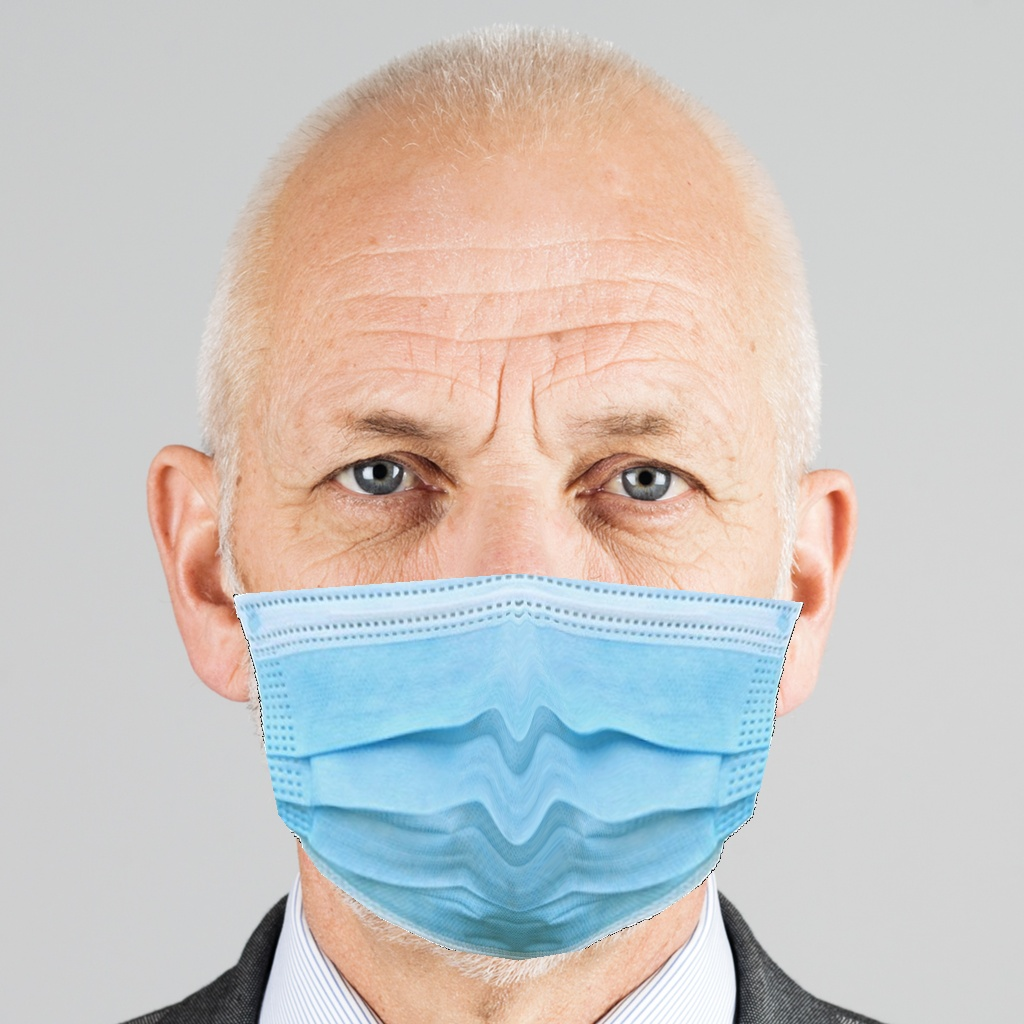Mask: (231, 398, 804, 962)
